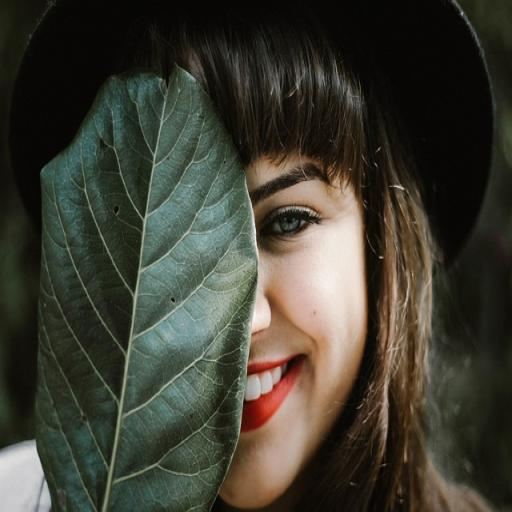lipstick: (241, 358, 303, 431)
objects: (242, 360, 301, 432), (246, 363, 277, 386)
